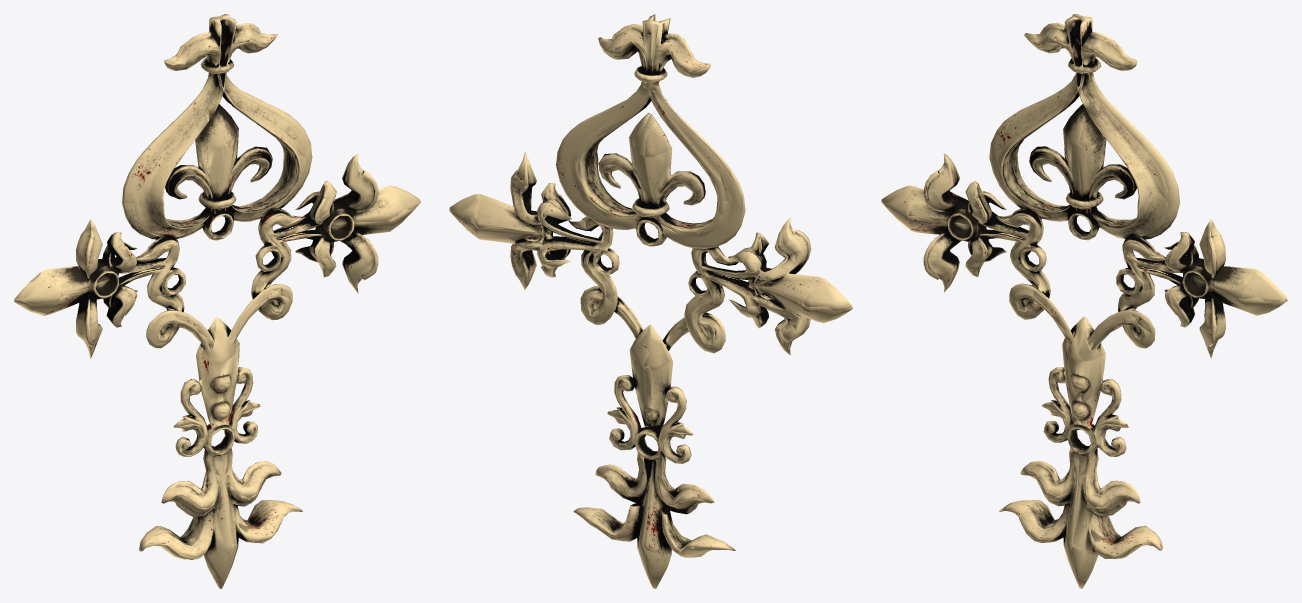
The model's file is Cross 1.glb.
3 views of the same model, side by side, from view 1: azimuth 30°, elevation 25°; view 2: azimuth 150°, elevation 25°; view 3: azimuth 330°, elevation 25° (orthographic).
Parts seen in each view (by area): view 1: PendantGothic_M_Pendant_LP_0; view 2: PendantGothic_M_Pendant_LP_0; view 3: PendantGothic_M_Pendant_LP_0.
Part boxes in pixels (x1,y1,x2,y2): PendantGothic_M_Pendant_LP_0: (14, 14, 420, 588); PendantGothic_M_Pendant_LP_0: (449, 14, 852, 588); PendantGothic_M_Pendant_LP_0: (881, 14, 1287, 588).
Size of the model in its own units: 2.33 by 3.13 by 0.2566.
1 material, 1 textured.
